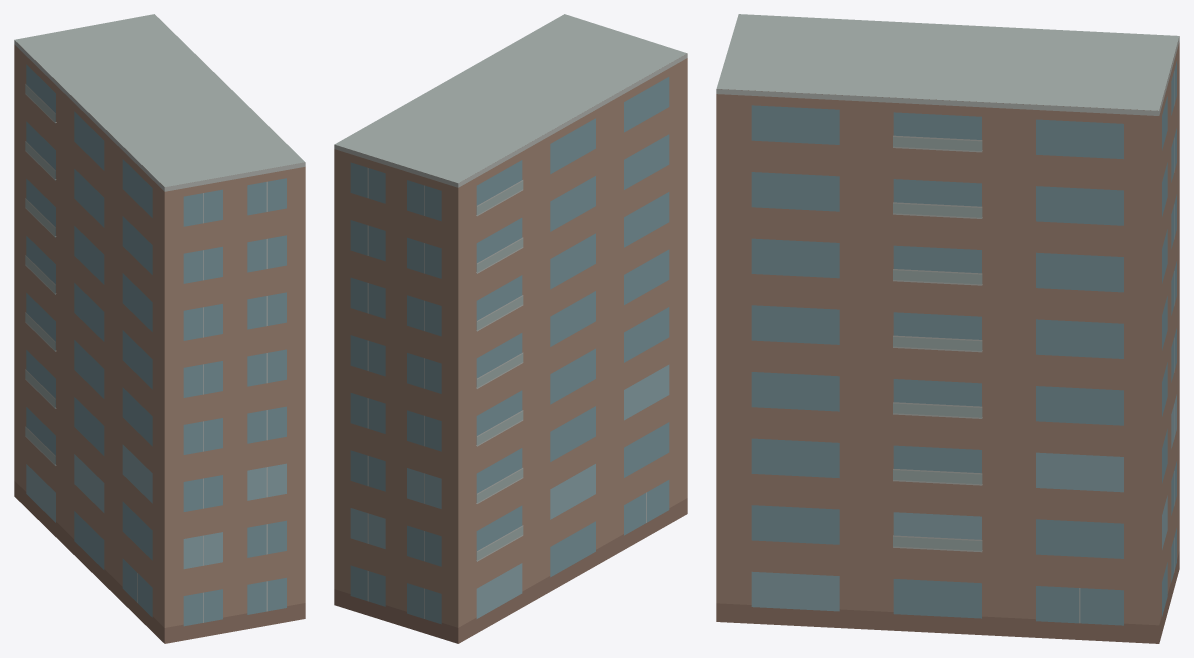
File: survey-upis-32565720.glb
3 renders of one model, left to right at view 1: azimuth 30°, elevation 25°; view 2: azimuth 150°, elevation 25°; view 3: azimuth 270°, elevation 25°, orthographic. The views are drawn at different scales.
Parts seen in each view (by area): view 1: survey-upis-32565720.tmp; view 2: survey-upis-32565720.tmp; view 3: survey-upis-32565720.tmp.
Part boxes in pixels (bbox=[...]): survey-upis-32565720.tmp: bbox=[14, 14, 305, 643]; survey-upis-32565720.tmp: bbox=[334, 14, 687, 643]; survey-upis-32565720.tmp: bbox=[716, 14, 1179, 643].
Bounding box in the file's own units: 9.67 × 24.8 × 19.53.
